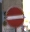No entry: (5, 6, 25, 27)
